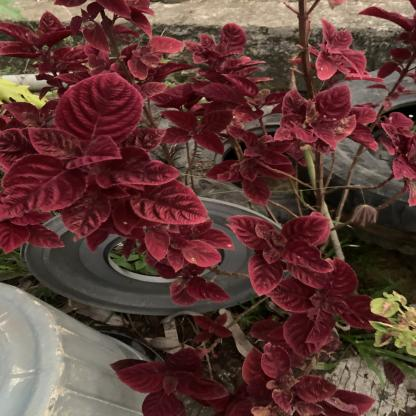Bunga Coleus: (2, 12, 311, 268), (154, 260, 350, 410)
